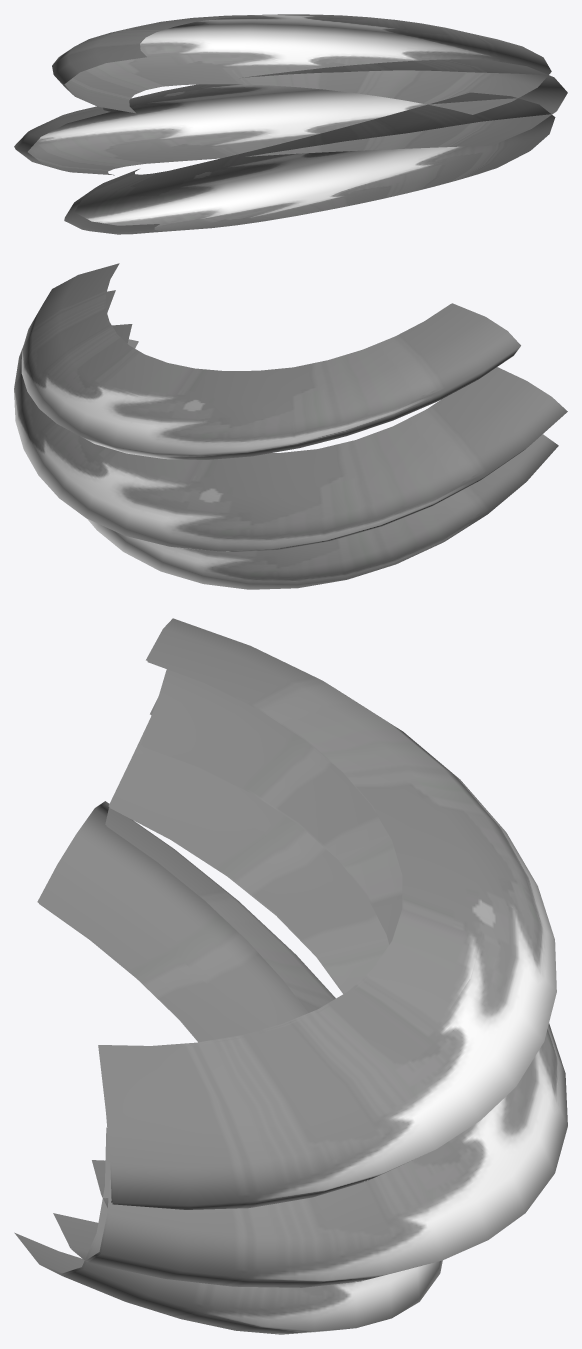
File: fx_m10242_skill01.fbx
3 renders of one model, top to bottom at view 1: azimuth 30°, elevation 25°; view 2: azimuth 150°, elevation 25°; view 3: azimuth 270°, elevation 25°, orthographic. The views are drawn at different scales.
Parts seen in each view (by area): view 1: trail_alpha, trail_add; view 2: trail_alpha, trail_add; view 3: trail_add, trail_alpha.
Part boxes in pixels (bbox=[...]): trail_alpha: bbox=[14, 14, 567, 234]; trail_add: bbox=[27, 14, 567, 234]; trail_alpha: bbox=[78, 263, 567, 563]; trail_add: bbox=[14, 264, 450, 589]; trail_add: bbox=[38, 661, 567, 1334]; trail_alpha: bbox=[14, 618, 529, 1275].
Bounding box in the file's own units: 979 × 439 × 493.
